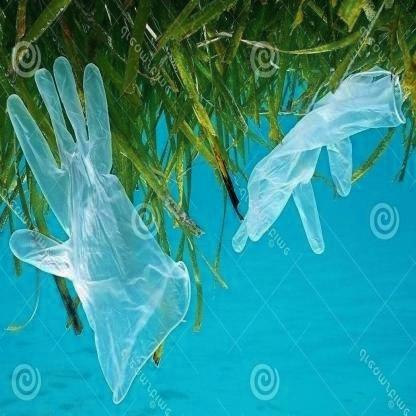glove: (6, 54, 192, 408), (236, 70, 404, 269)
